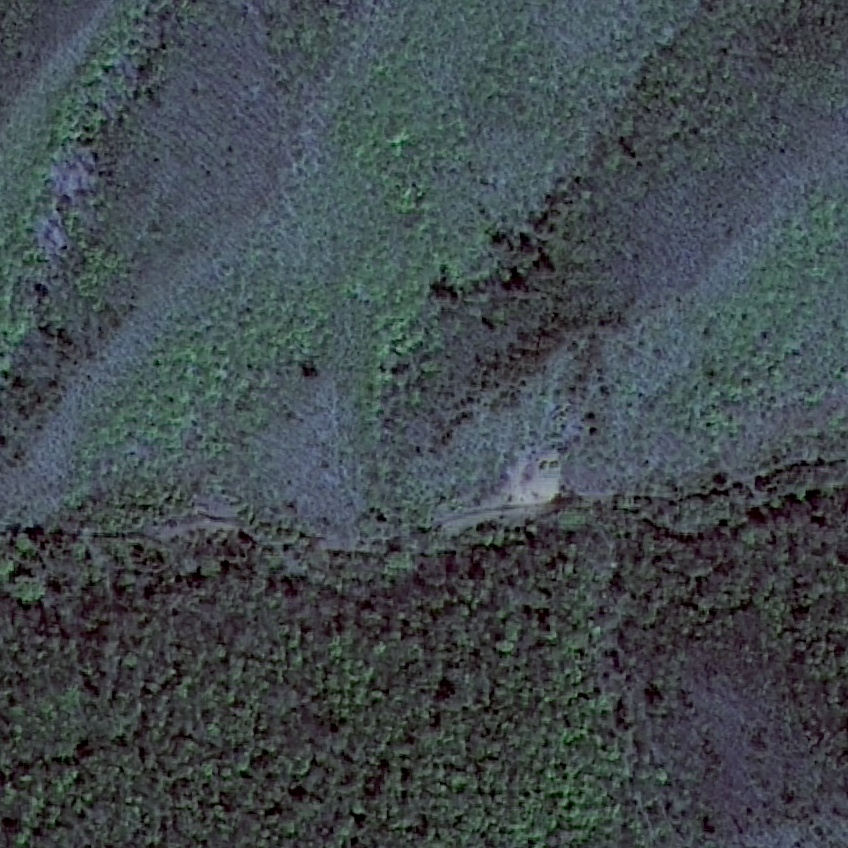slope: (495, 440, 567, 506)
